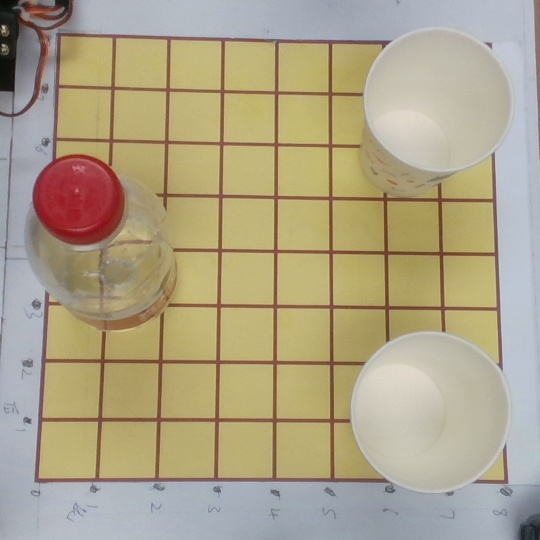bottle: (16, 152, 181, 337)
cup: (352, 25, 505, 207), (349, 329, 511, 496)
